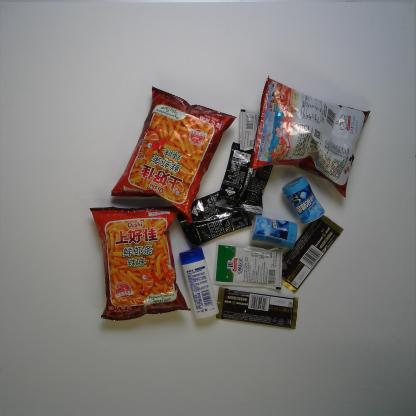Chocolate: (276, 215, 344, 294), (215, 286, 298, 329)
Gum: (281, 175, 326, 225), (249, 214, 299, 251)
Instant Drink: (176, 188, 253, 249), (215, 141, 275, 217)
Personal Hygiene: (178, 245, 219, 320)
Puffed Food: (108, 84, 236, 227), (245, 74, 371, 198), (88, 204, 193, 322)
Seasoner: (212, 242, 284, 290), (238, 107, 262, 152)
